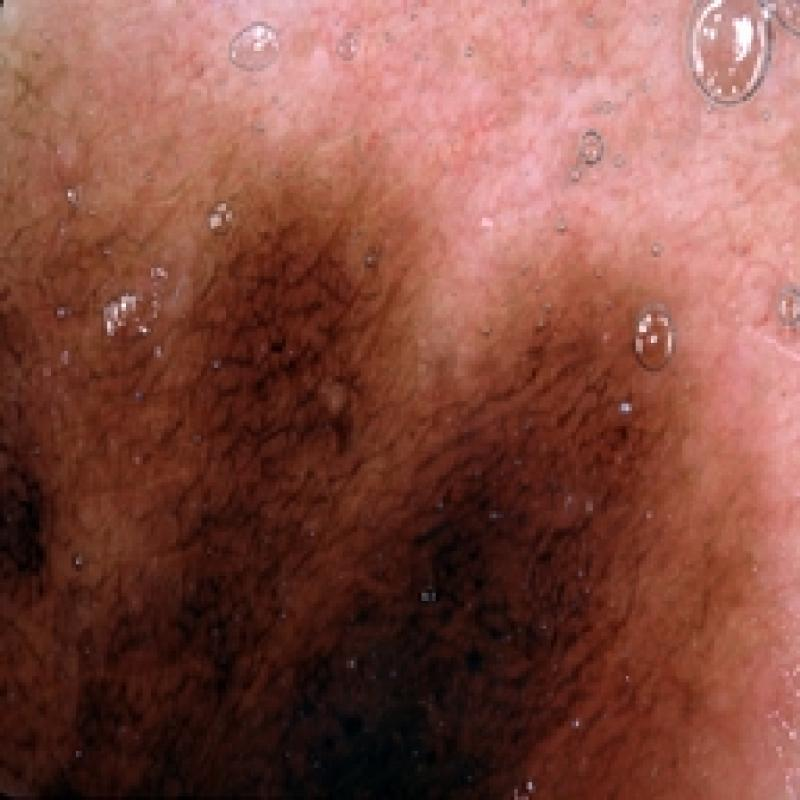malignant: (5, 86, 703, 765)
